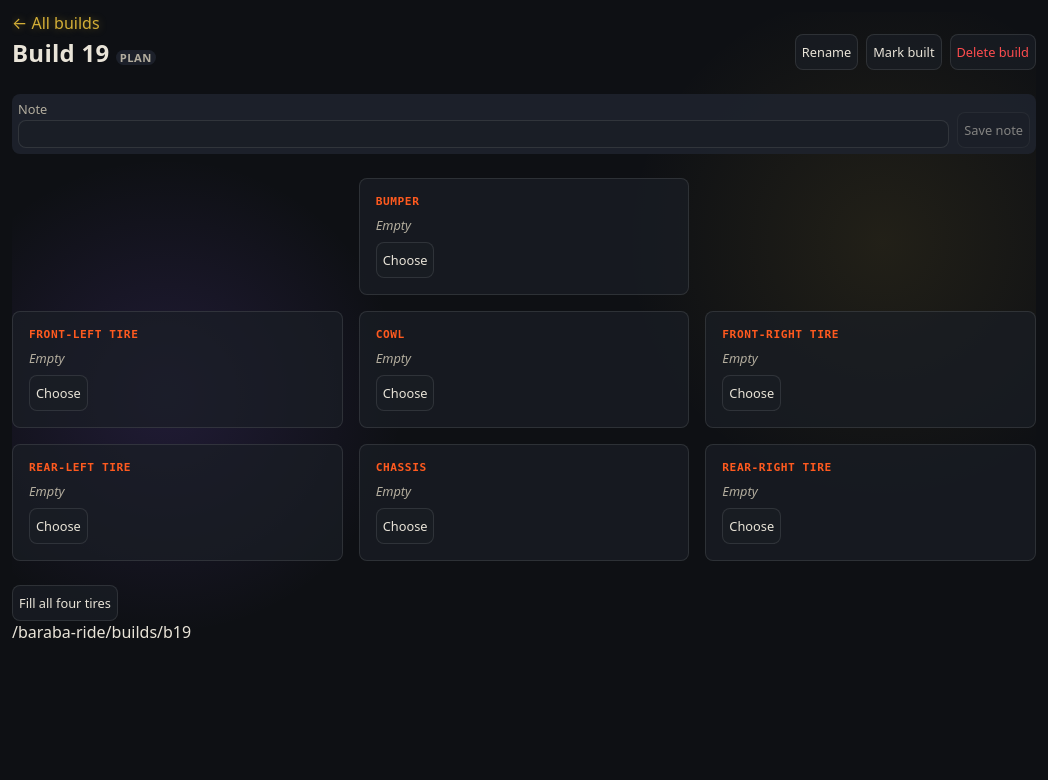
Test: BuildView for a plan › cancels a delete without writing
Step 1. Click the button "Delete build" → click(993, 52), box [950,34,1036,70]
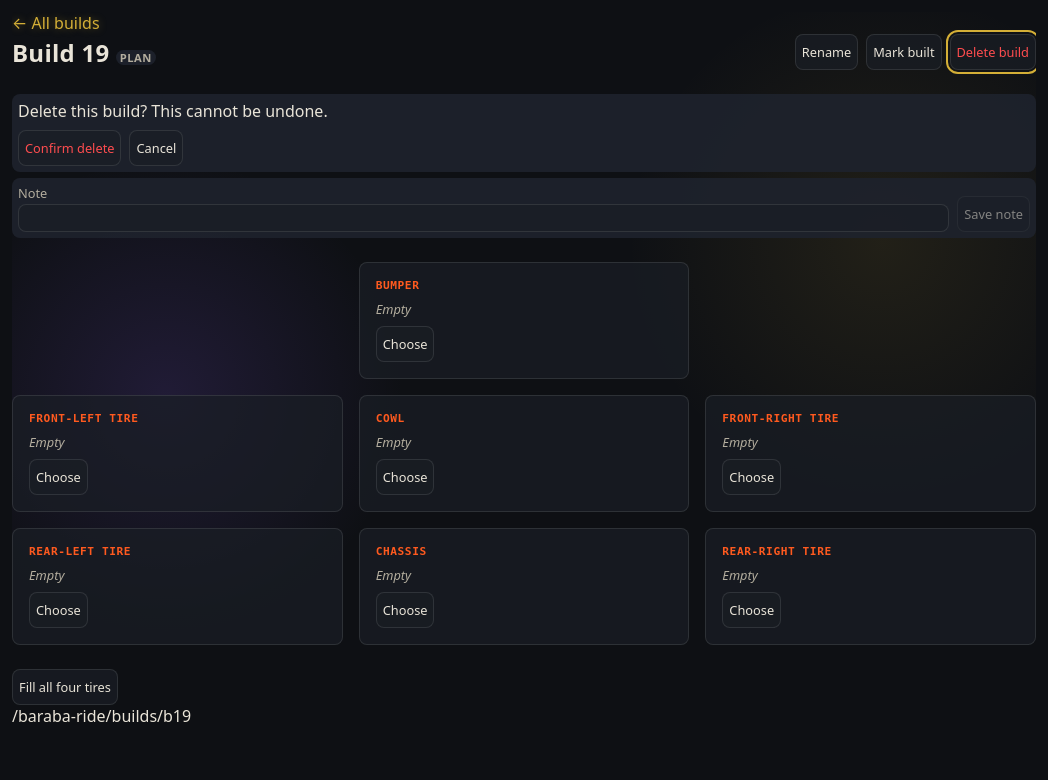
Step 2. Click the button "Cancel" → click(156, 148), box [130,130,183,166]
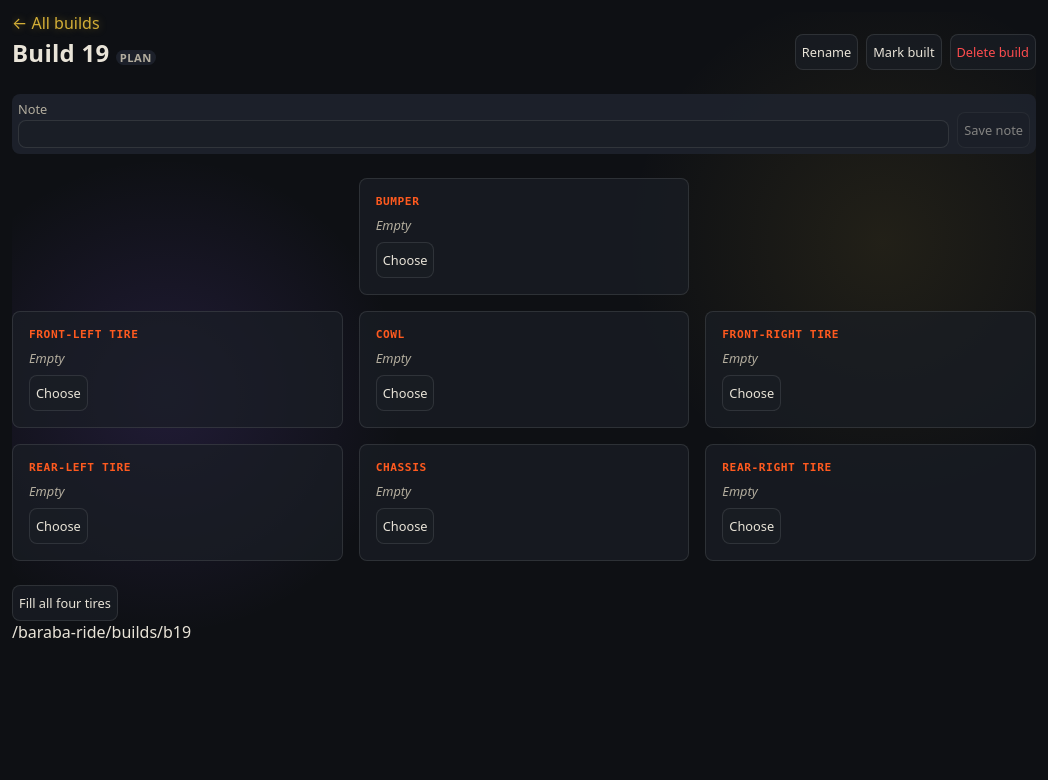
Now the text "Delete this build" is gone
